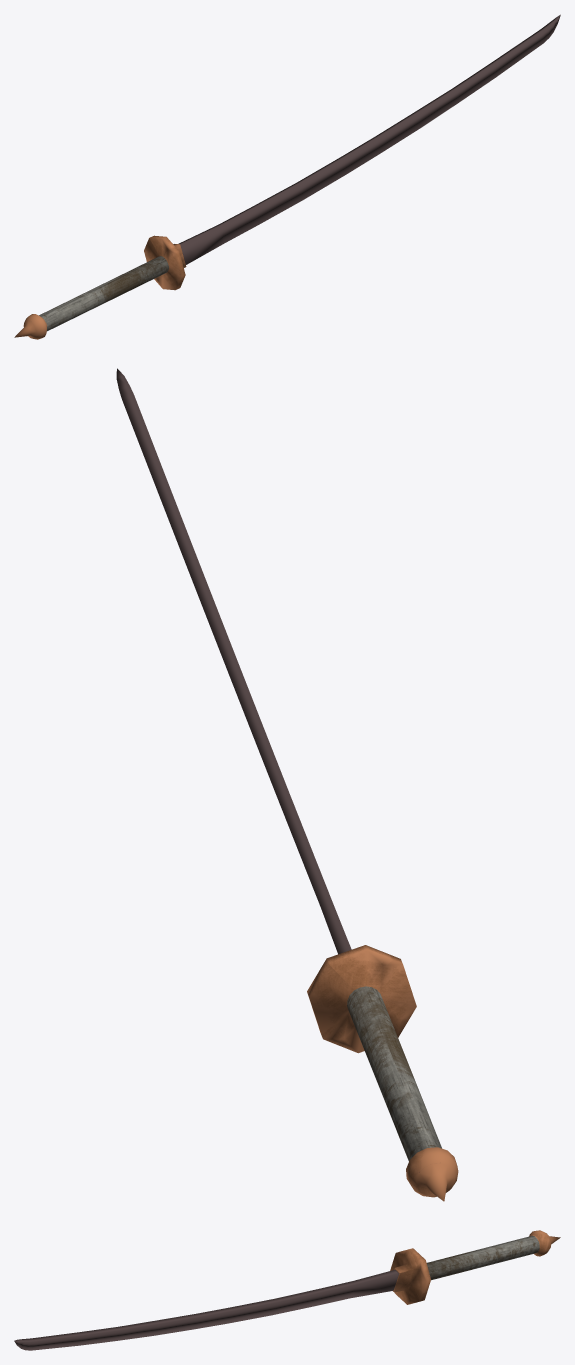
Rendered from Anim_idle_katana_objetos.0030.obj.
3 renders of one model, top to bottom at view 1: azimuth 90°, elevation 25°; view 2: azimuth 150°, elevation 25°; view 3: azimuth 270°, elevation 25°, orthographic. The views are drawn at different scales.
Visible parts, largest first — view 1: Katana1; view 2: Katana1; view 3: Katana1.
Boxes of the visible parts, x1=… form: Katana1: x1=14, y1=14, x2=560, y2=339; Katana1: x1=116, y1=368, x2=458, y2=1201; Katana1: x1=14, y1=1230, x2=560, y2=1350.
Bounding box in the file's own units: 3.59 × 0.9345 × 3.89.
